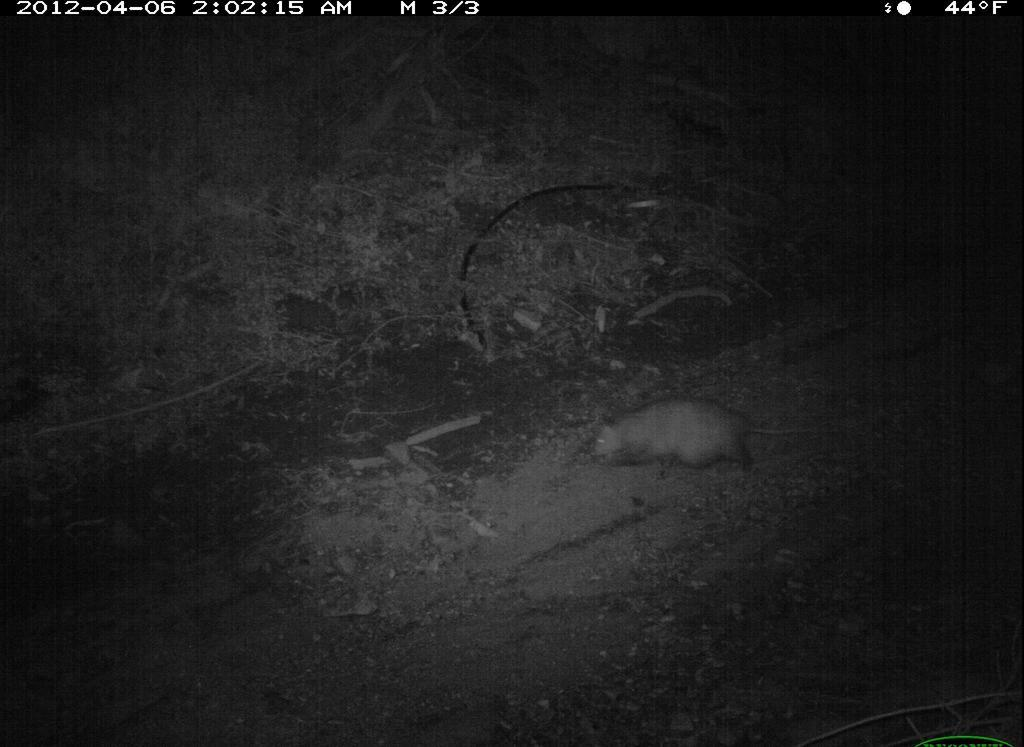opossum: (574, 386, 856, 501)
